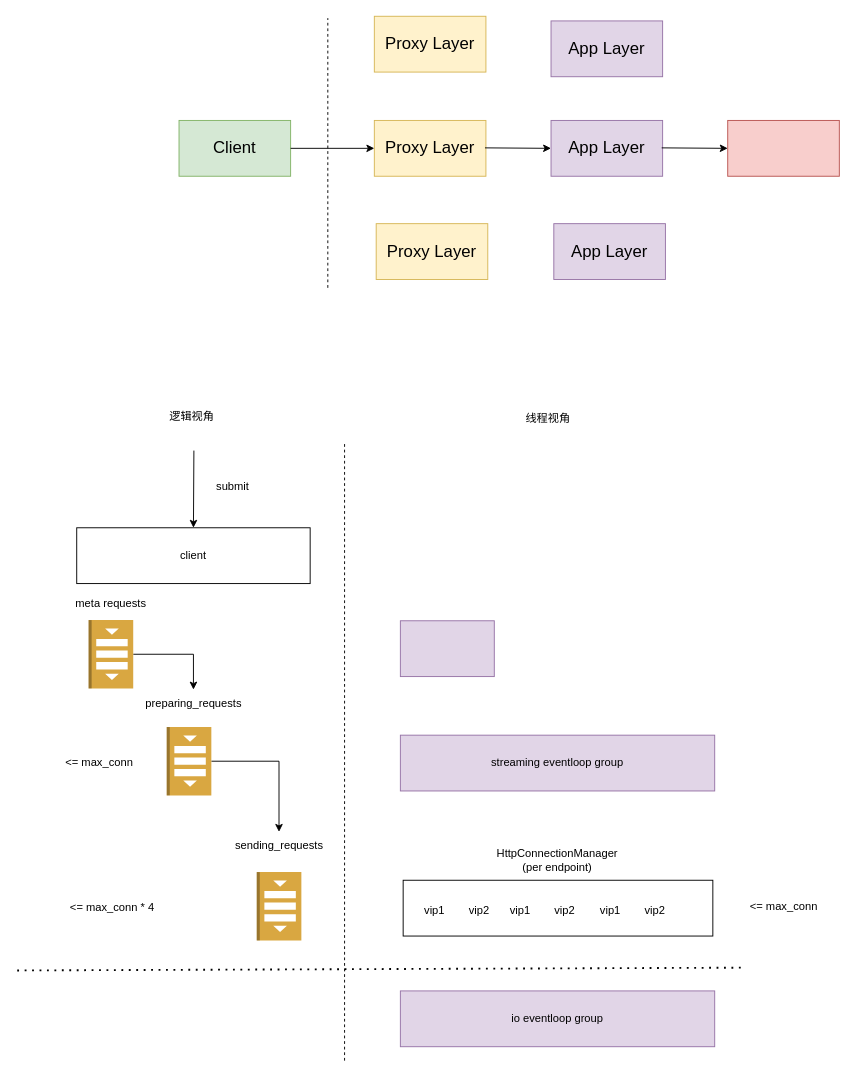
The diagram is 856 pixels wide and 1078 high, and some of its shapes have lost their labels. Each missing label, with the centre of its shape:
"Data Layer" belongs at (783,148).
"eventloop" belongs at (446,648).
